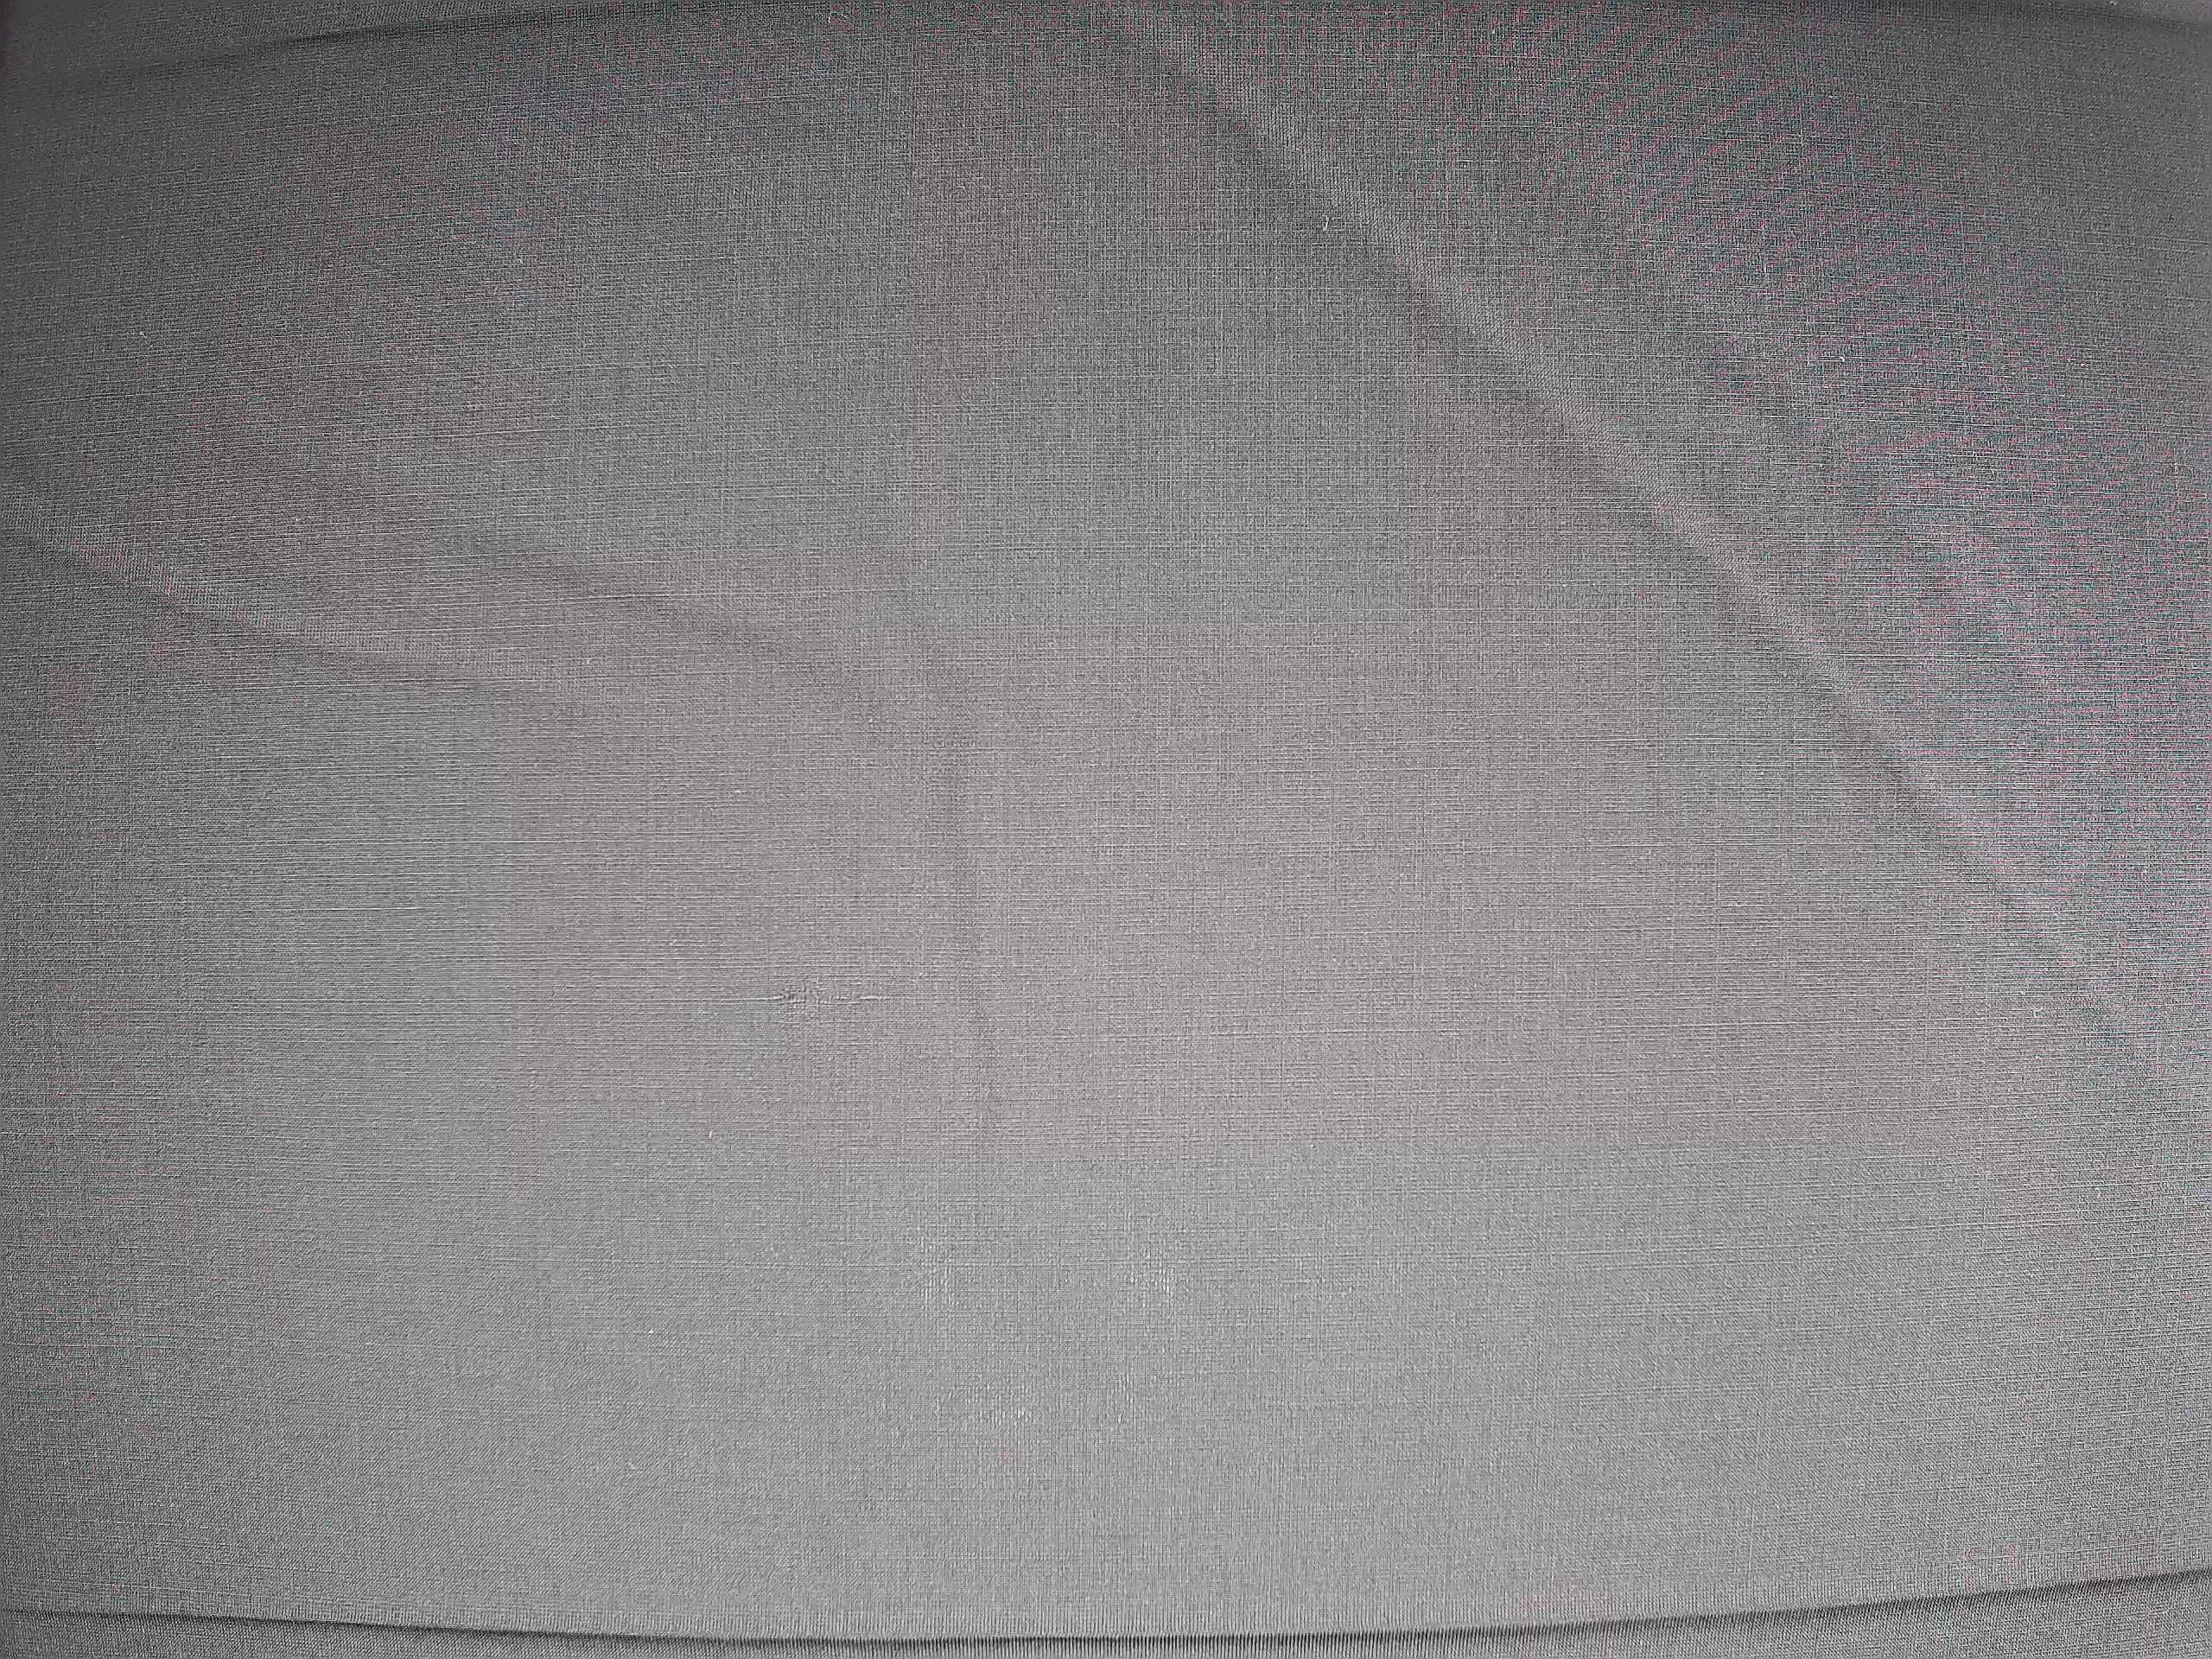thin-spinning: (737, 972, 909, 1018)
